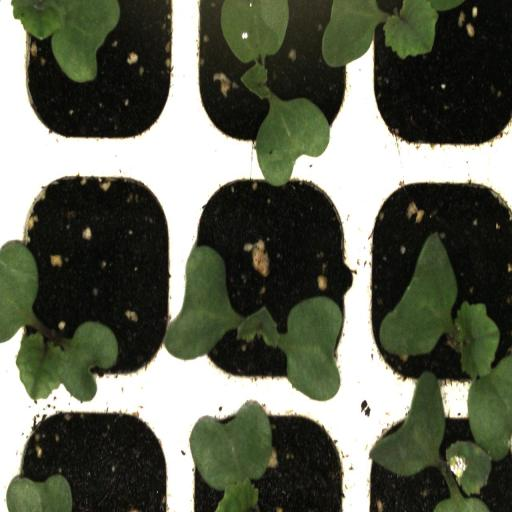Folha: (321, 0, 463, 68), (12, 0, 121, 83), (191, 403, 273, 512), (6, 474, 73, 512)
Germinacao: (182, 164, 361, 396), (6, 161, 180, 396), (361, 164, 512, 399), (180, 0, 361, 174)
